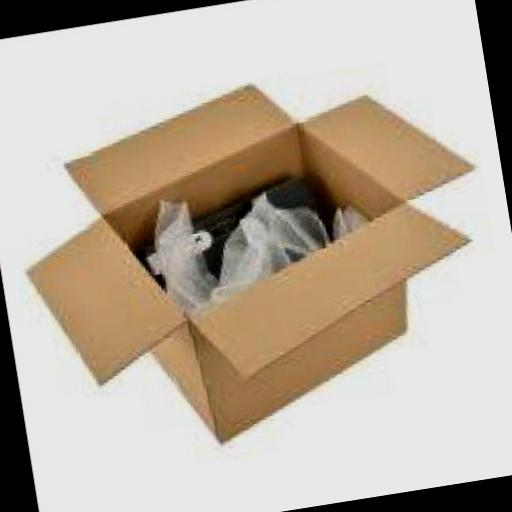cardboard: (0, 49, 503, 465)
paper: (193, 178, 334, 292), (138, 186, 220, 314), (314, 195, 368, 235)
